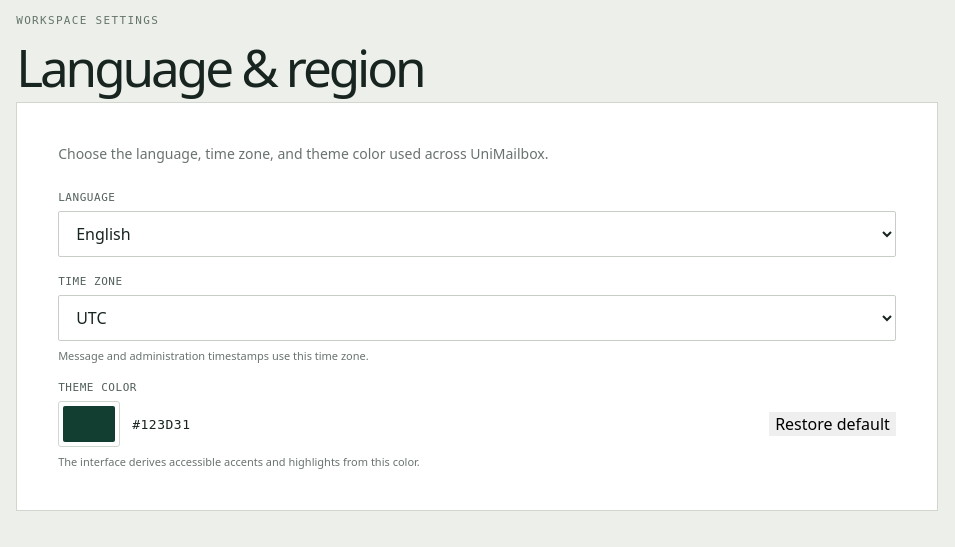
it: authenticated settings › changes language immediately and persists it without exposing the test-only locale
Select "简体中文" in the dropdown labelled "Language" at (477, 234), box x1=58 y1=211 x2=896 y2=257
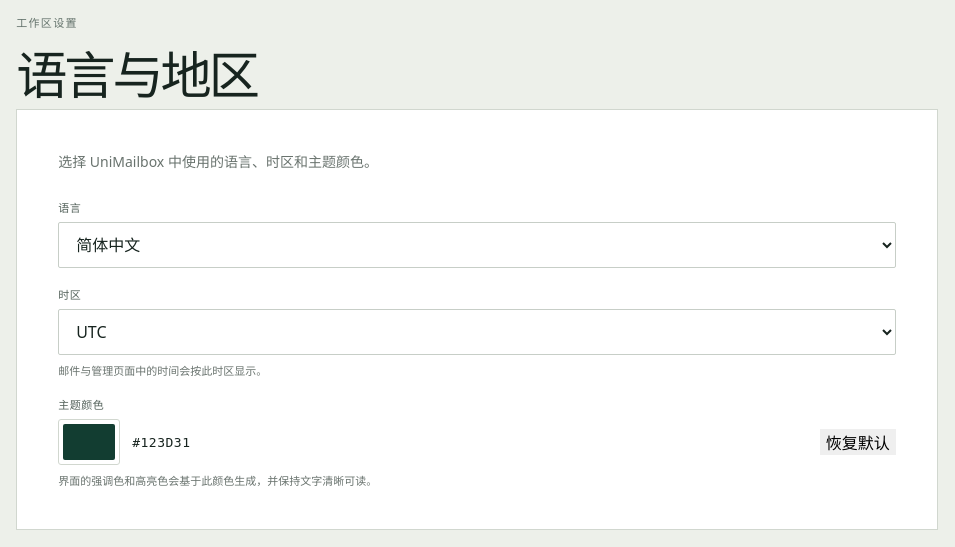
Now the heading "语言与地区" is shown, box x1=16 y1=35 x2=257 y2=109
